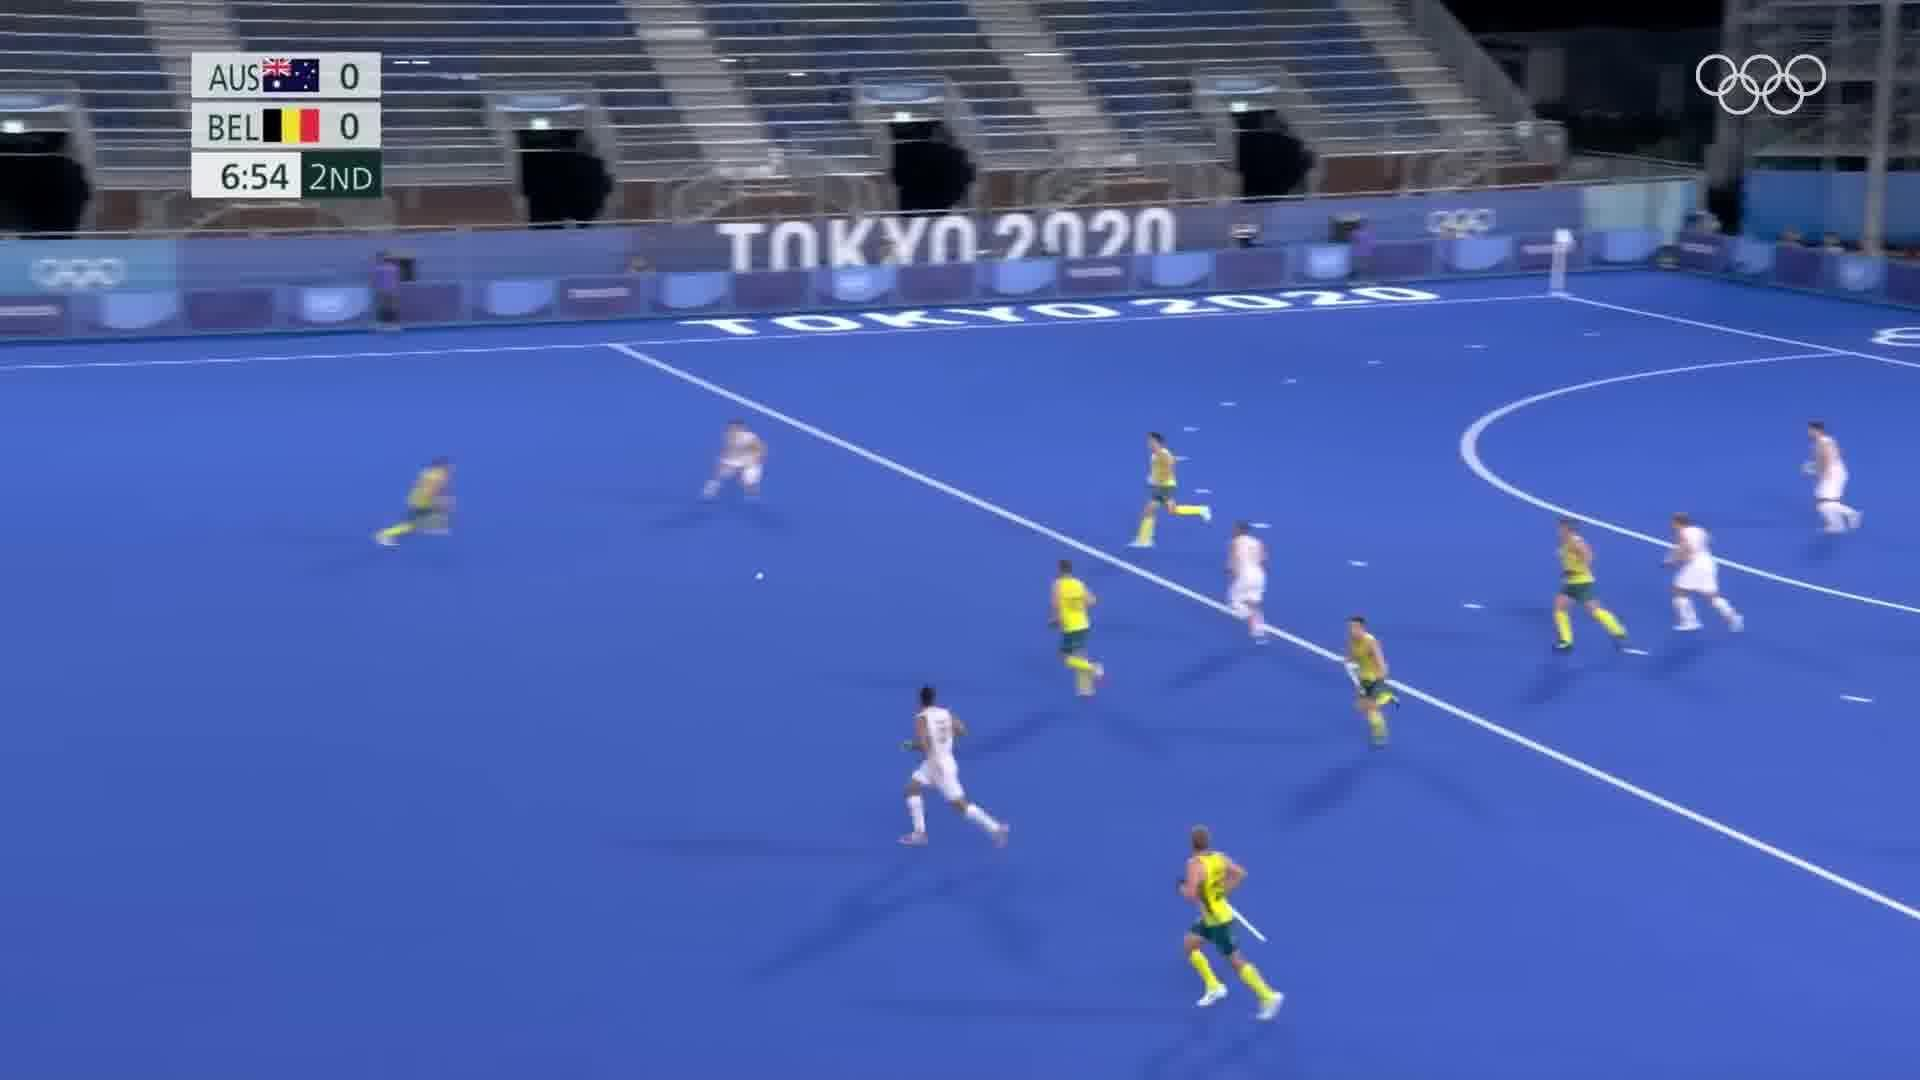ball: (753, 566, 769, 589)
